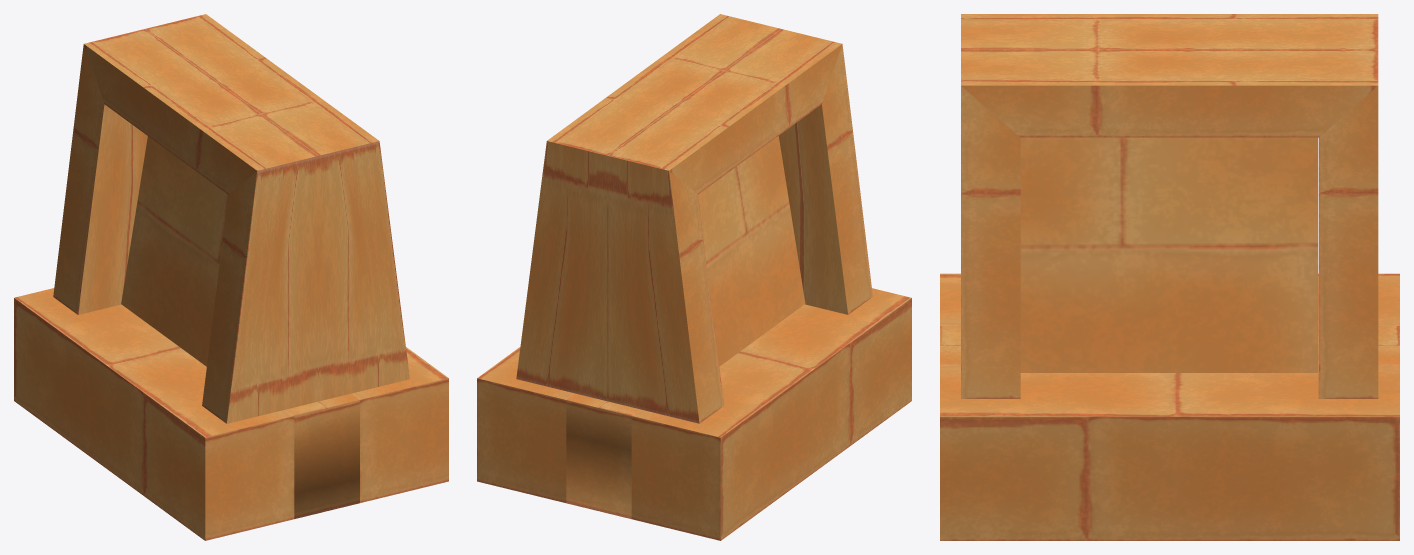
The model's file is TempleEmbelisher01_Art.glb.
The picture shows the model from 3 angles, left to right: view 1: azimuth 30°, elevation 25°; view 2: azimuth 150°, elevation 25°; view 3: azimuth 270°, elevation 25°; orthographic projection. The views are drawn at different scales.
Parts seen in each view (by area): view 1: TempleEmbelisher01_Art; view 2: TempleEmbelisher01_Art; view 3: TempleEmbelisher01_Art.
Boxes of the visible parts, x1,y1,x2,y2 form: TempleEmbelisher01_Art: (14, 14, 448, 540); TempleEmbelisher01_Art: (477, 14, 911, 540); TempleEmbelisher01_Art: (940, 14, 1399, 540).
Size of the model in its own units: 5.29 by 7.23 by 7.18.
Materials: 1 (1 with a texture image).
